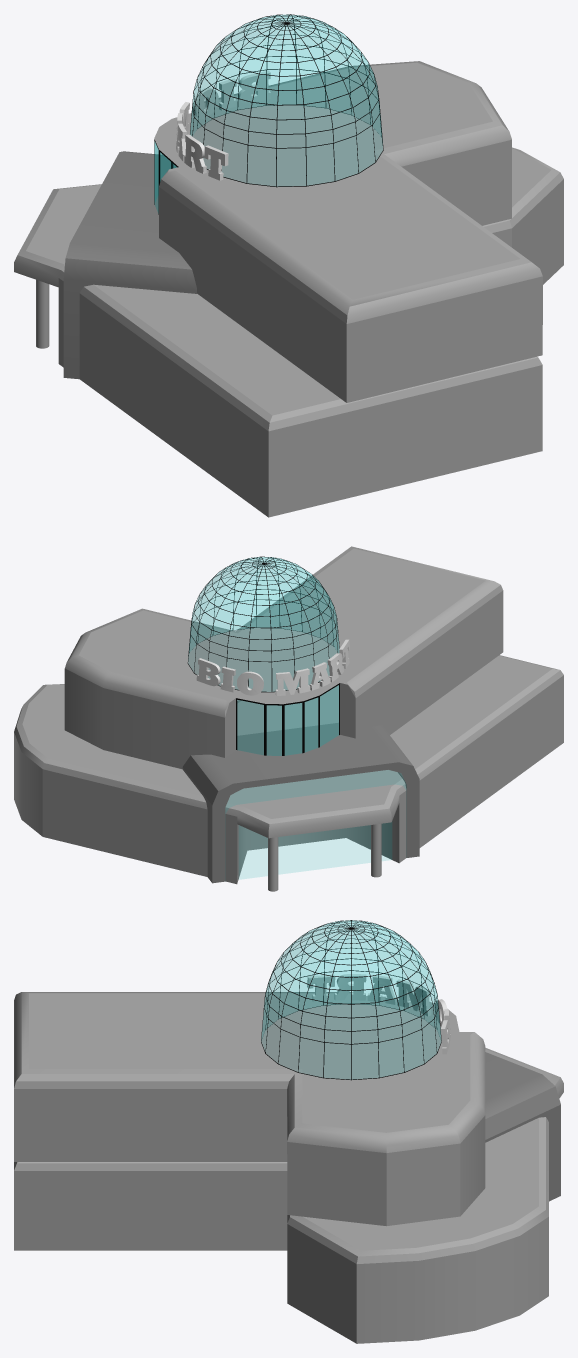
File: supermart.fbx
The picture shows the model from 3 angles, top to bottom: view 1: azimuth 30°, elevation 25°; view 2: azimuth 150°, elevation 25°; view 3: azimuth 270°, elevation 25°; orthographic projection. The views are drawn at different scales.
Visible parts, largest first — view 1: polySurface16, polySurface11, polySurface15, polySurface12, polySurface14, polySurface5, polySurface9, polySurface237, svgMesh1, polySurface229, polySurface228, polySurface230 (+3 smaller); view 2: polySurface11, polySurface16, polySurface12, polySurface15, polySurface5, polySurface9, polySurface14, polySurface6, polySurface237, svgMesh1, polySurface238, polySurface242 (+6 smaller); view 3: polySurface11, polySurface16, polySurface15, polySurface14, polySurface12, polySurface9, polySurface237, polySurface5, svgMesh1, polySurface235, polySurface236, polySurface217 (+3 smaller).
Part boxes in pixels (x1,y1,x2,y2): polySurface16: (169,62,519,299); polySurface11: (58,179,563,517); polySurface15: (154,108,542,402); polySurface12: (26,148,551,415); polySurface14: (159,61,542,323); polySurface5: (63,151,196,379); polySurface9: (14,147,563,431); polySurface237: (190,14,383,187); svgMesh1: (176,70,270,180); polySurface229: (277,148,305,185); polySurface228: (248,146,275,185); polySurface230: (307,144,333,184); polySurface11: (14,675,563,884); polySurface16: (79,548,485,702); polySurface12: (22,655,552,818); polySurface15: (64,590,503,769); polySurface5: (182,722,419,883); polySurface9: (14,655,563,838); polySurface14: (65,546,502,717); polySurface6: (226,770,405,878); polySurface237: (187,556,339,692); svgMesh1: (196,639,349,695); polySurface238: (238,700,263,754); polySurface242: (320,686,338,745); polySurface11: (14,1171,548,1343); polySurface16: (29,993,473,1132); polySurface15: (14,996,485,1226); polySurface14: (14,992,485,1153); polySurface12: (303,1049,552,1250); polySurface9: (14,1047,563,1263); polySurface237: (261,920,441,1080); polySurface5: (485,1052,560,1201); svgMesh1: (307,974,450,1054); polySurface235: (324,1043,350,1078); polySurface236: (352,1043,378,1078); polySurface217: (379,1038,403,1076).
Size of what is drawn, in the model's own units: 16.31 by 9.78 by 16.87.
